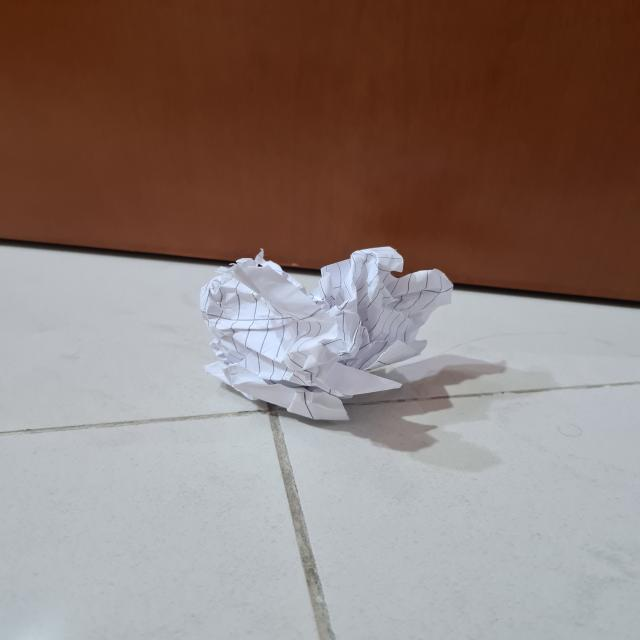Paper: (195, 243, 509, 421)
